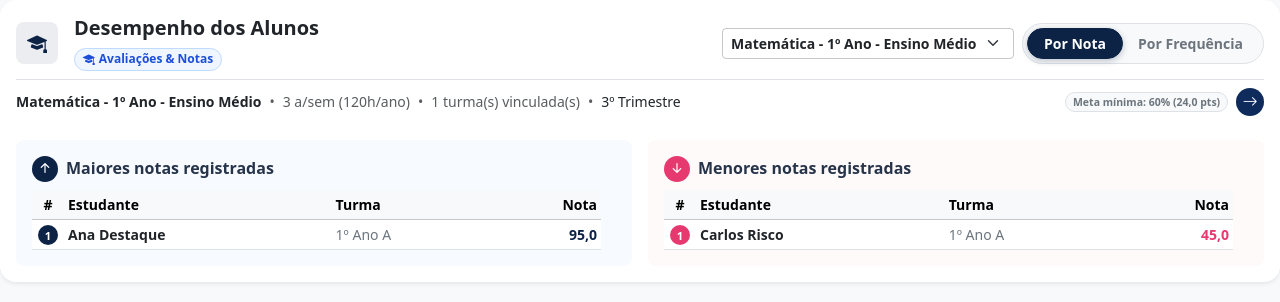
Scenario: DesempenhoAlunosCard › renderiza rankings de pior e melhor desempenho e permite alternar entre nota e frequência
Expected: the heading "Desempenho dos Alunos" is shown, [74,16,319,40]
Expected: the heading "Menores notas registradas" is shown, [698,159,911,178]
# Alterna para Por Frequência
Click the button "Por Frequência".
click(1190, 43)  # box [1122,28,1259,59]
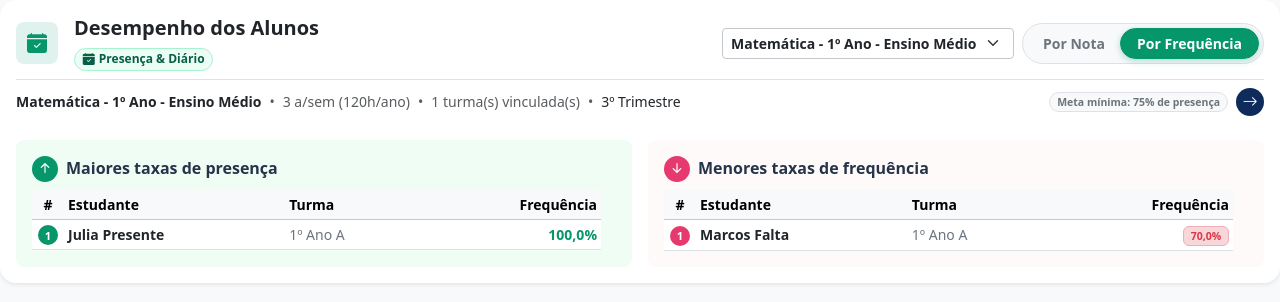
Now the heading "Menores taxas de frequência" is shown, box [698,159,929,178]
Now the heading "Maiores taxas de presença" is shown, box [66,159,278,178]
Now the text "Marcos Falta" is shown, box [696,219,908,251]
